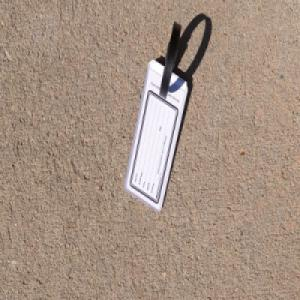LuggageTag: (122, 19, 188, 213)
